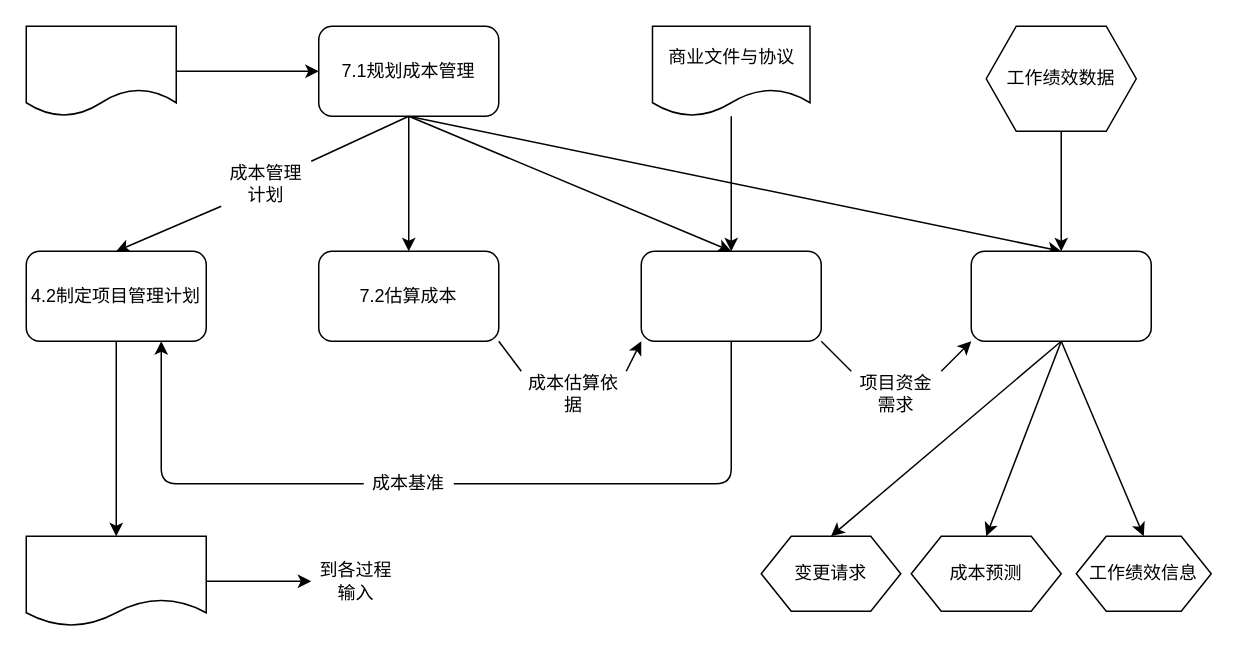
Image size: 1238x653. Some labels were removed from this diagram. Here are the shapes that lost their labels. From the top down, the centre of each, then its label:
(x=100, y=70): 项目章程
(x=730, y=295): 7.3制定预算
(x=1060, y=295): 7.4控制成本
(x=115, y=580): 项目管理计划
